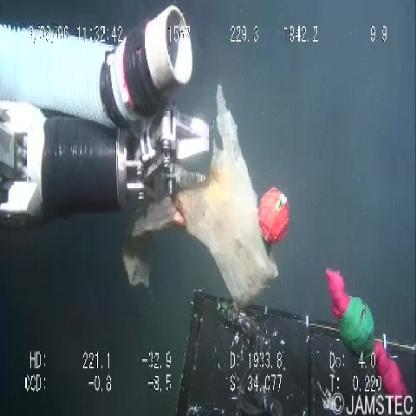Rov: (1, 2, 213, 234), (165, 285, 416, 416)
Rác: (174, 108, 290, 316)
